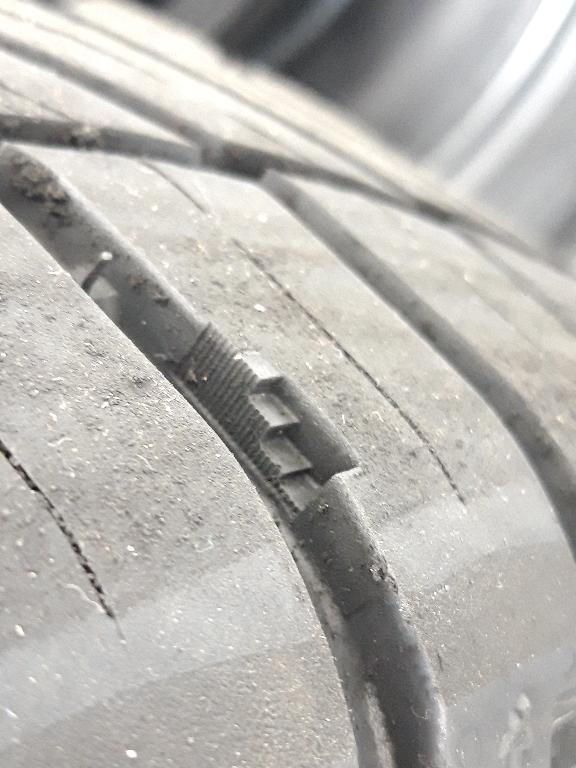temoin:75: (194, 344, 371, 531)
